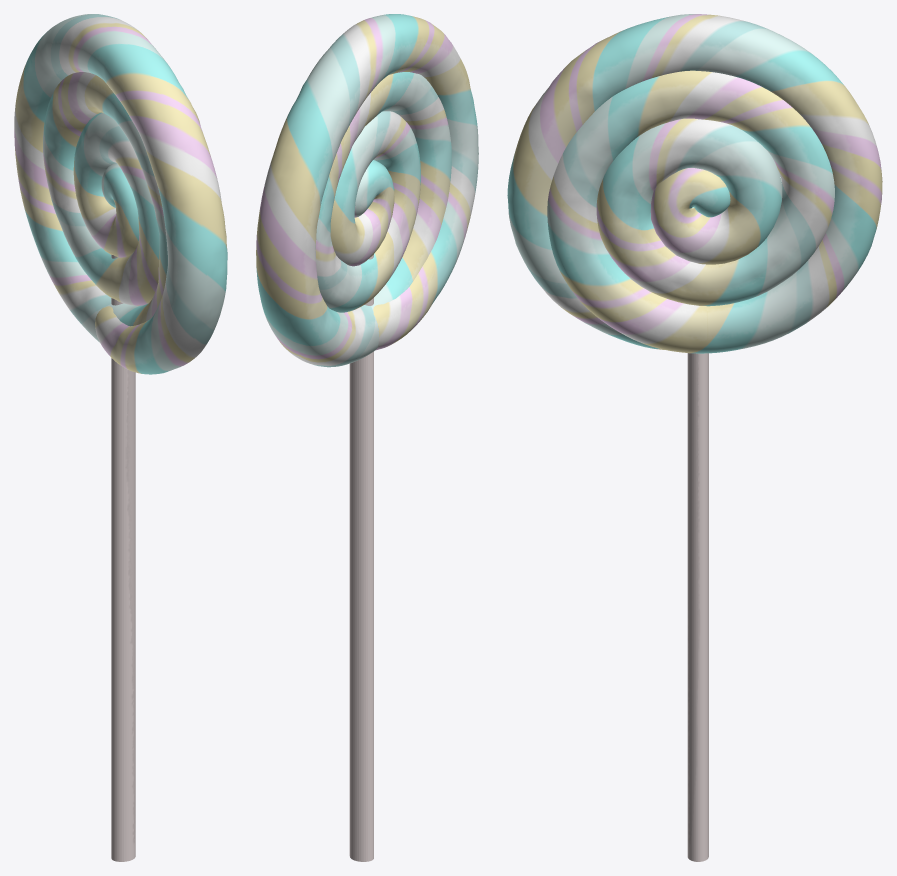
File: teal.glb
3 renders of one model, left to right at view 1: azimuth 30°, elevation 25°; view 2: azimuth 150°, elevation 25°; view 3: azimuth 270°, elevation 25°, orthographic.
Parts seen in each view (by area): view 1: lolipop3; view 2: lolipop3; view 3: lolipop3.
Part boxes in pixels (left/top/right/bottom): lolipop3: left=14, top=14, right=227, bottom=861; lolipop3: left=256, top=14, right=478, bottom=861; lolipop3: left=507, top=14, right=882, bottom=861.
Bounding box in the file's own units: 0.3661 × 4.3 × 1.75.
Materials: 1 (1 with a texture image).
